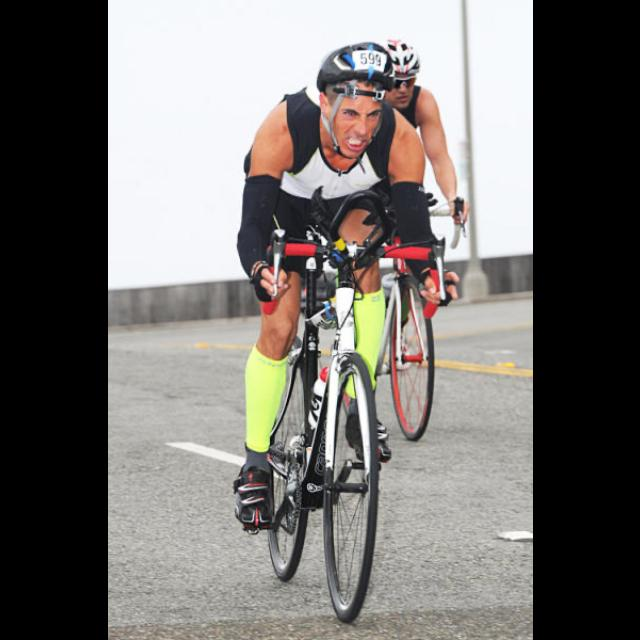With Helmet: (306, 34, 408, 160)
